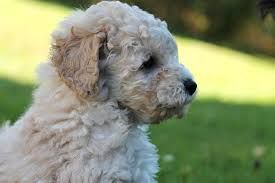Bulldog: (20, 3, 193, 183)
